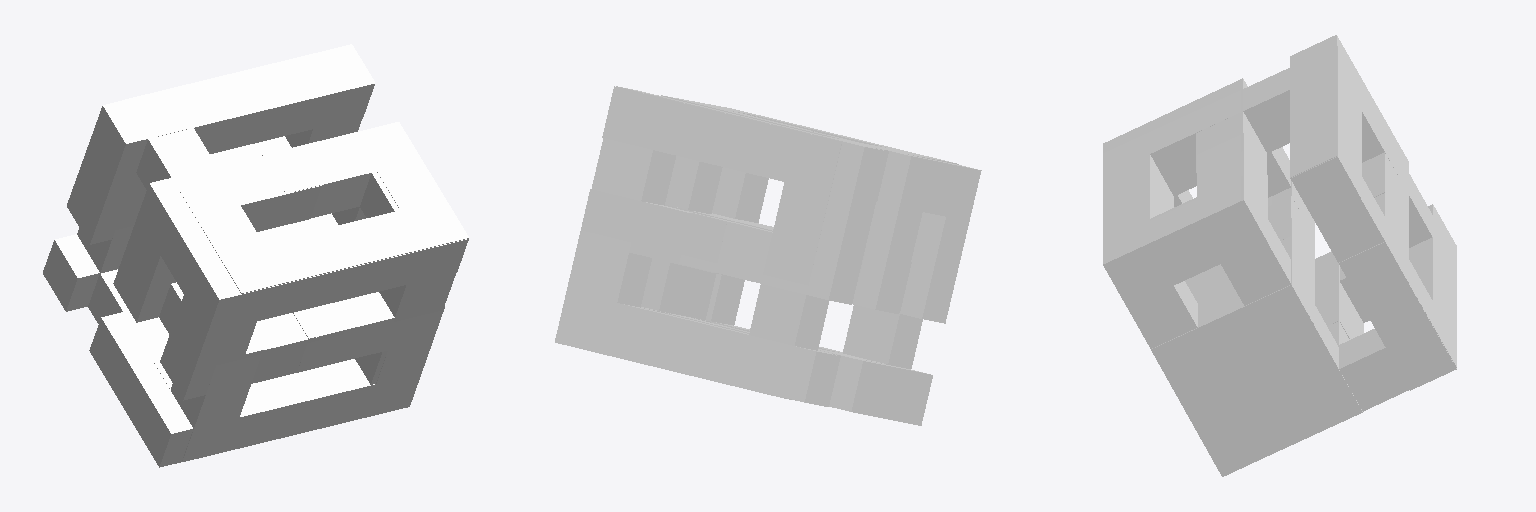
The model's file is gestalt_cube_3.obj.
The picture shows the model from 3 angles: view 1: azimuth 30°, elevation 25°; view 2: azimuth 150°, elevation 25°; view 3: azimuth 270°, elevation 25°; orthographic projection.
Parts seen in each view (by area): view 1: gestalt_cube_object_3, gestalt_cube_object; view 2: gestalt_cube_object_3, gestalt_cube_object; view 3: gestalt_cube_object, gestalt_cube_object_3.
Boxes of the visible parts, box(x1,y1,x2,y2) form: gestalt_cube_object_3: box(43, 45, 467, 467); gestalt_cube_object: box(77, 44, 468, 461); gestalt_cube_object_3: box(556, 86, 981, 425); gestalt_cube_object: box(555, 86, 958, 406); gestalt_cube_object: box(1103, 46, 1456, 476); gestalt_cube_object_3: box(1103, 35, 1456, 475).
Bounding box in the file's own units: 67.56 × 82.84 × 82.84.